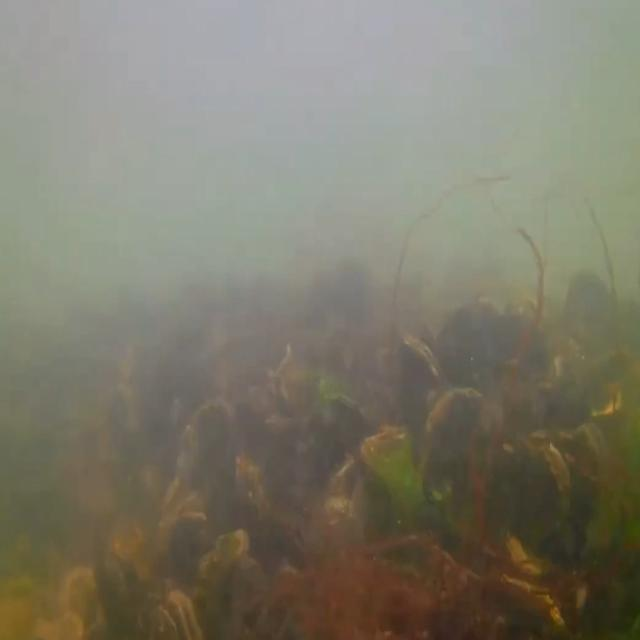Oyster-Closed: (401, 334, 442, 470), (359, 424, 416, 474), (195, 528, 252, 576)
Oyster-Indeterminate: (422, 386, 507, 506), (493, 437, 573, 544), (531, 427, 615, 523), (191, 401, 240, 537), (232, 454, 274, 541), (502, 572, 568, 623), (330, 390, 376, 460), (154, 490, 207, 545), (167, 424, 196, 509), (508, 535, 564, 576)
Oyster-Open: (152, 589, 204, 640)
